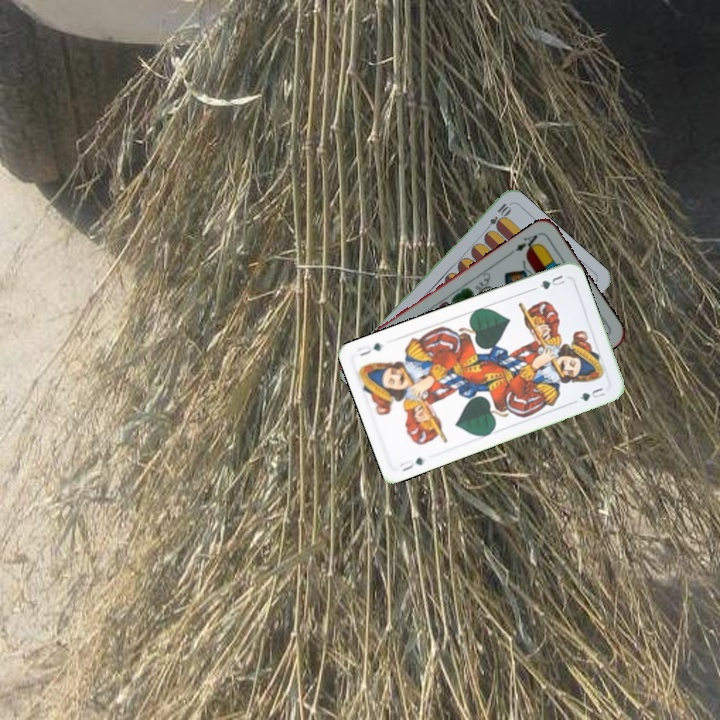E10: (481, 199, 512, 235)
EA: (507, 229, 543, 256)
GU: (535, 271, 568, 292), (396, 453, 426, 474)
